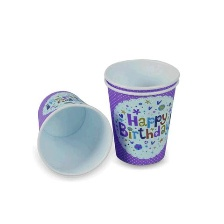paper_cup: (98, 54, 182, 171), (29, 85, 116, 182)
